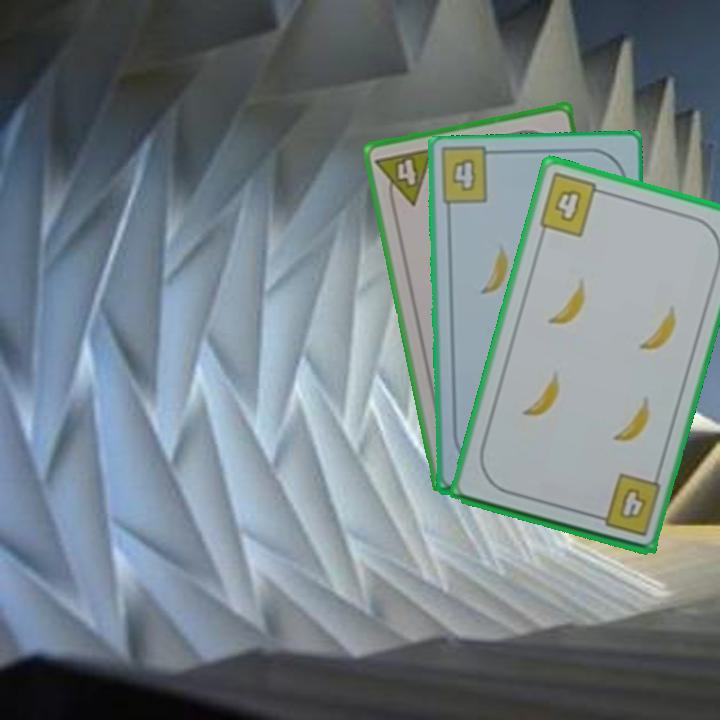4b: (535, 169, 610, 240), (588, 470, 664, 539), (448, 154, 479, 194)
4p: (372, 144, 437, 212)
